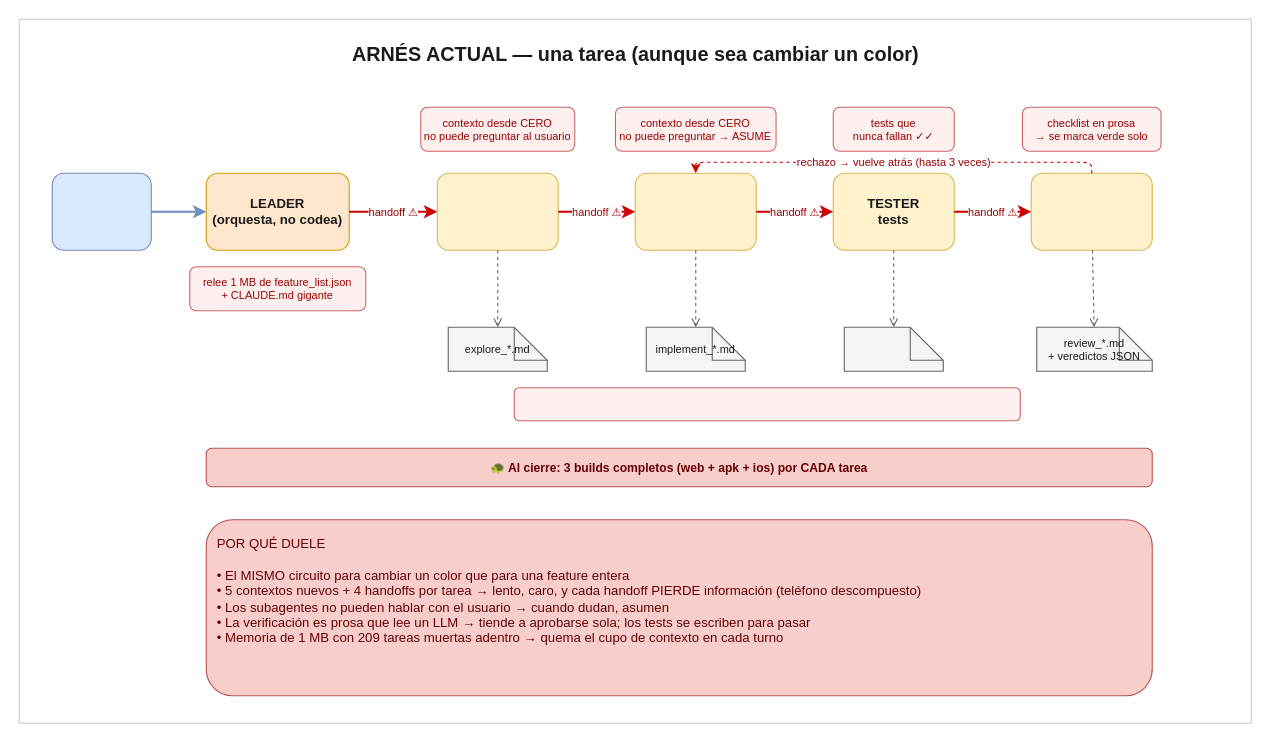
Some shapes in this 1271 by 743 pixel diagram are drawn without their labels. Each missing label, with the box of its shape:
EXPLORER investiga: (436, 172, 558, 250)
IMPLEMENTER codea: (634, 172, 756, 250)
outputs literales completos pasados de agente en agente = contexto inflado: (513, 387, 1020, 421)
REVIEWER 2 etapas: (1030, 172, 1152, 250)
test_*.md: (843, 326, 943, 371)
👤 Usuario: (51, 172, 151, 250)
